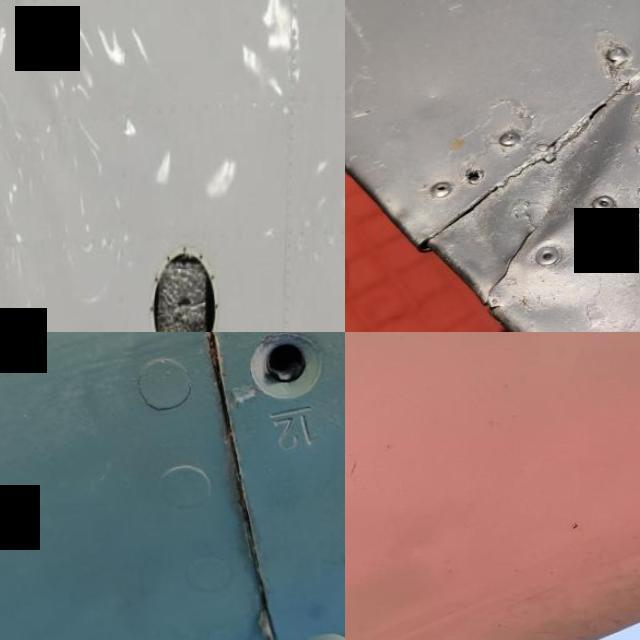Crack: (480, 198, 570, 322)
Missing_Fastener: (222, 332, 345, 431)
